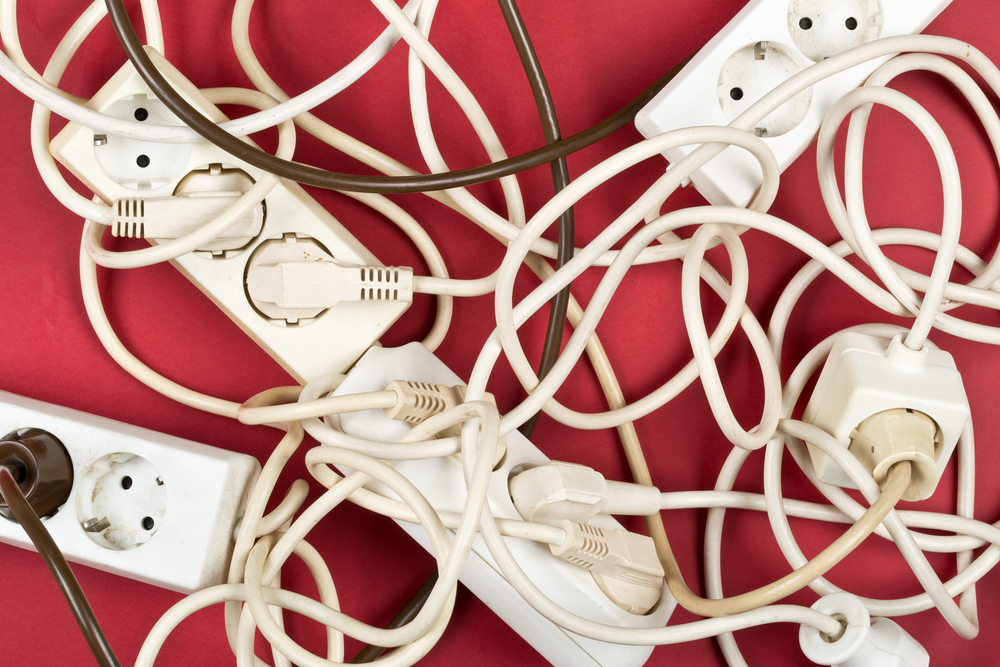Three_eye_plug: (314, 327, 695, 667), (53, 55, 405, 393), (1, 378, 288, 622), (650, 1, 965, 215), (796, 303, 992, 569)
